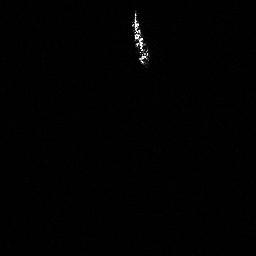ship: (129, 10, 152, 66)
